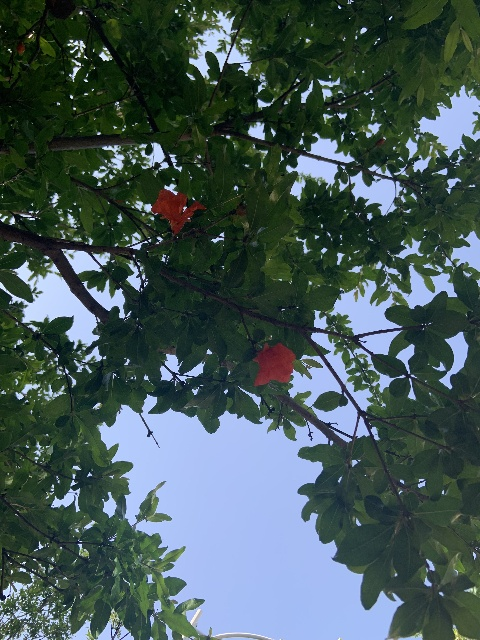flower: (151, 188, 205, 234), (250, 341, 296, 386)
